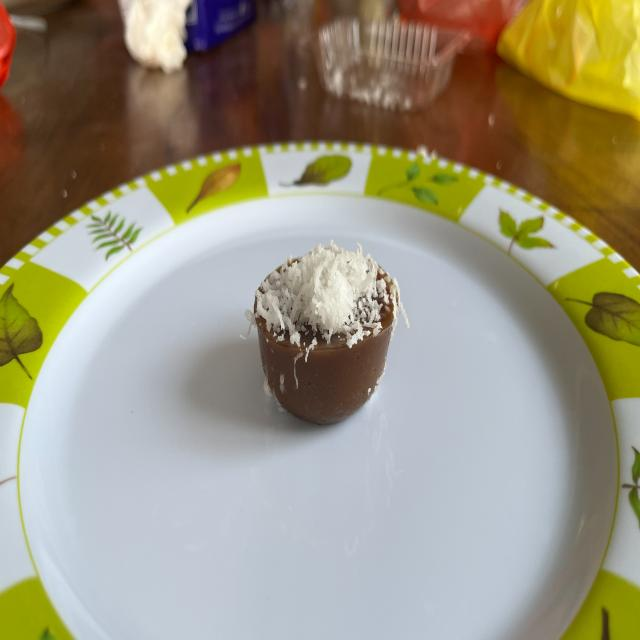Kuih lompang: (245, 240, 409, 424)
